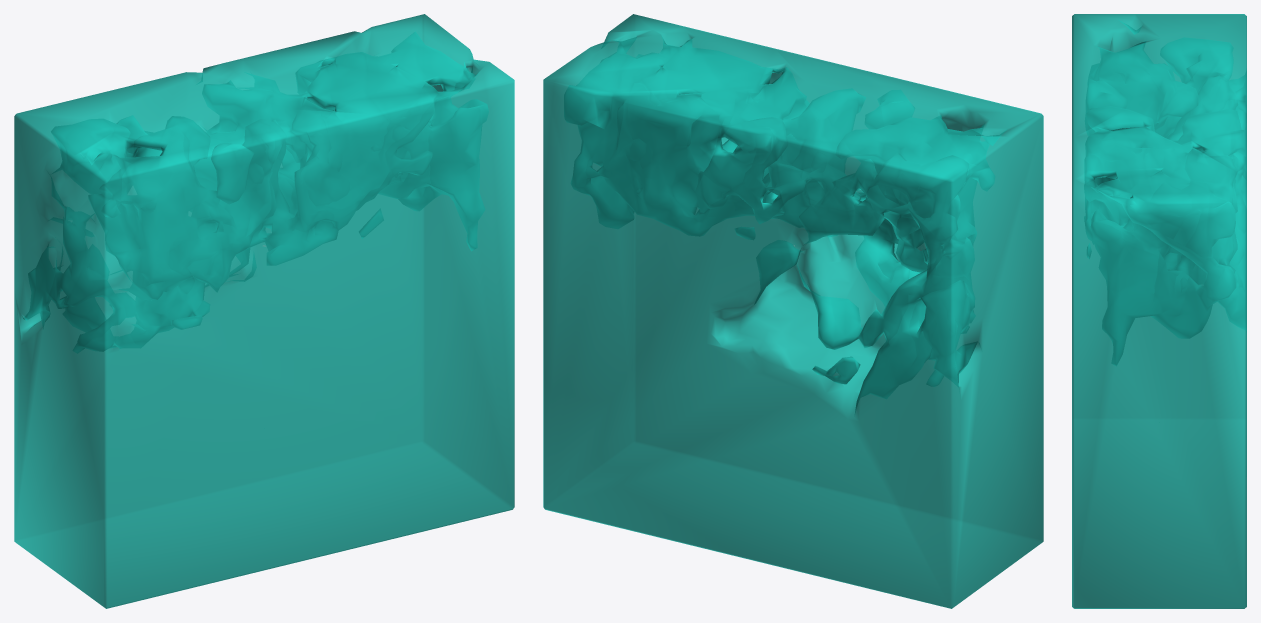
The picture shows the model from 3 angles, left to right: view 1: azimuth 30°, elevation 25°; view 2: azimuth 150°, elevation 25°; view 3: azimuth 270°, elevation 25°; orthographic projection. The views are drawn at different scales.
Visible parts, largest first — view 1: Liquid_Domain; view 2: Liquid_Domain; view 3: Liquid_Domain.
Boxes of the visible parts, x1,y1,x2,y2 form: Liquid_Domain: (14,14,514,608); Liquid_Domain: (543,14,1043,608); Liquid_Domain: (1072,14,1246,608).
Bounding box in the file's own units: 884 × 885 × 345.
